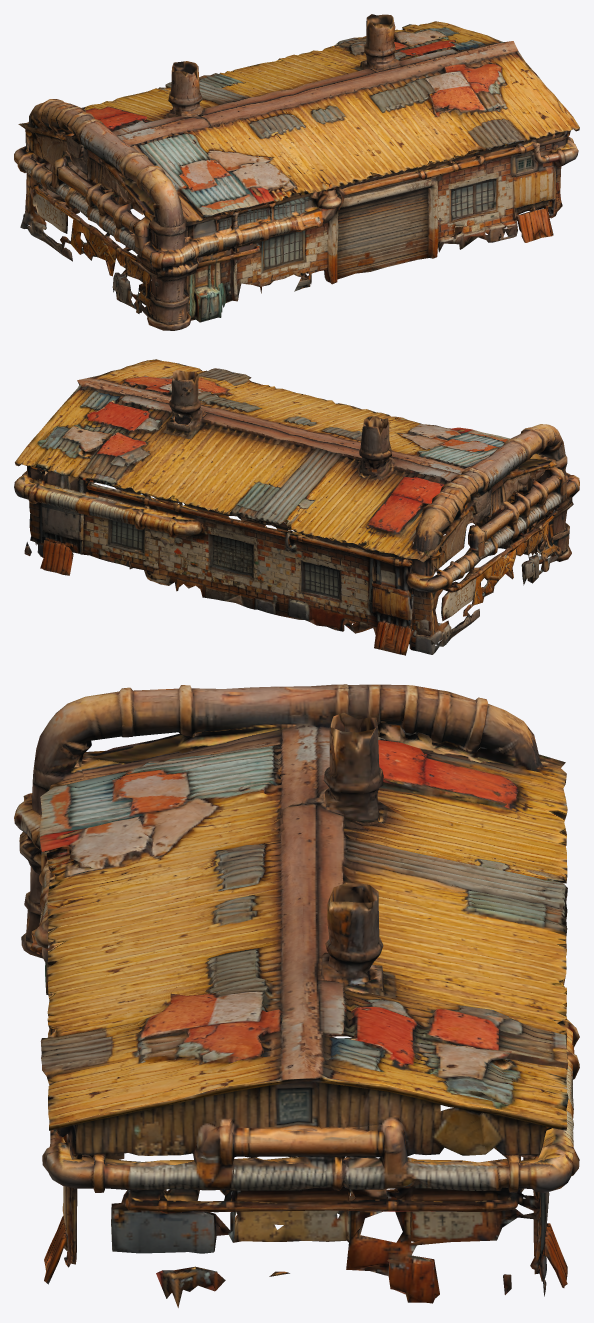
File: Settle_Factory.fbx
The picture shows the model from 3 angles, top to bottom: view 1: azimuth 30°, elevation 25°; view 2: azimuth 150°, elevation 25°; view 3: azimuth 270°, elevation 25°; orthographic projection. The views are drawn at different scales.
Parts seen in each view (by area): view 1: texture_mapping; view 2: texture_mapping; view 3: texture_mapping.
Part boxes in pixels (x1,y1,x2,y2): texture_mapping: (14,14,579,330); texture_mapping: (14,359,579,655); texture_mapping: (14,684,579,1307).
Size of the model in its own units: 0.9984 by 0.6191 by 0.3859.
Materials: 1 (1 with a texture image).
